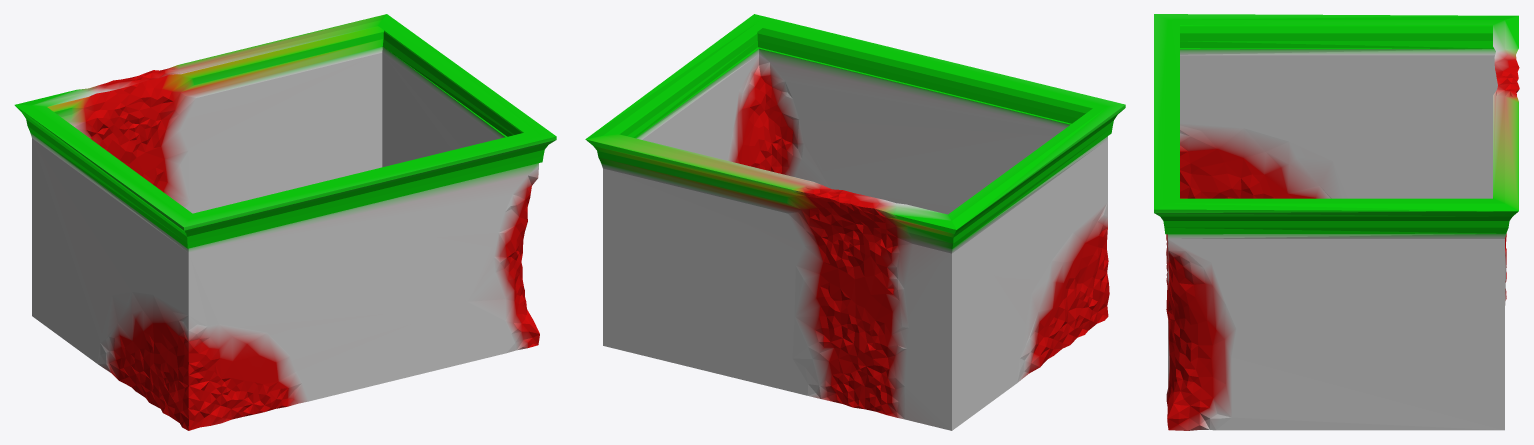
The model's file is BuildingTopDam_03.fbx.
3 renders of one model, left to right at view 1: azimuth 30°, elevation 25°; view 2: azimuth 150°, elevation 25°; view 3: azimuth 270°, elevation 25°, orthographic. The views are drawn at different scales.
Parts seen in each view (by area): view 1: Building3_Top; view 2: Building3_Top; view 3: Building3_Top.
Part boxes in pixels (box(x1,y1,x2,y2)): Building3_Top: box(14, 14, 556, 430); Building3_Top: box(585, 14, 1125, 430); Building3_Top: box(1154, 14, 1519, 430).
Bounding box in the file's own units: 555 × 301 × 439.
